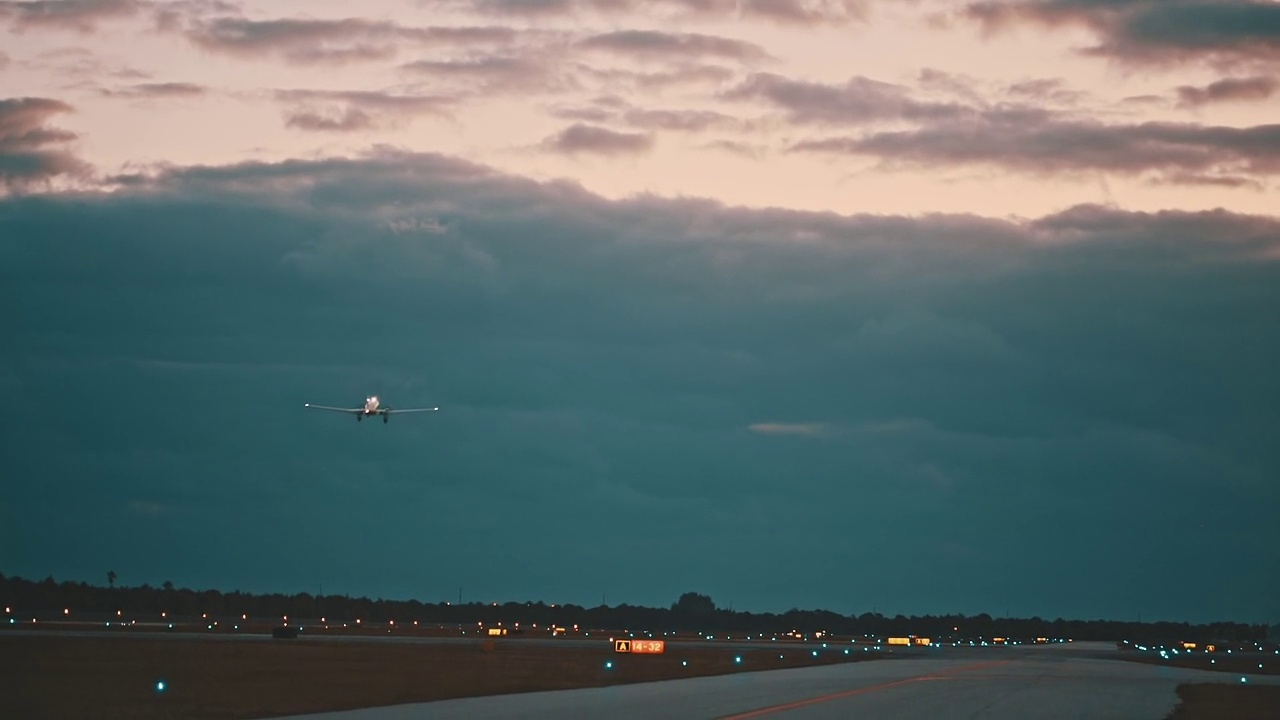plane: (304, 393, 439, 425)
